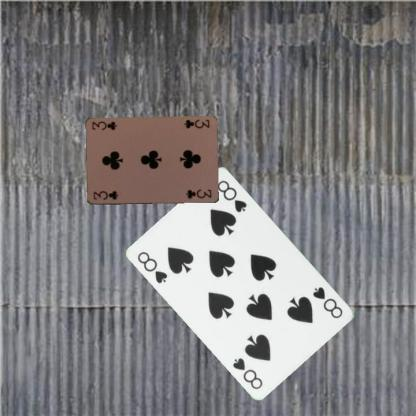3c: (91, 188, 119, 201), (182, 117, 210, 130)
8s: (135, 248, 169, 285), (310, 284, 344, 320)
